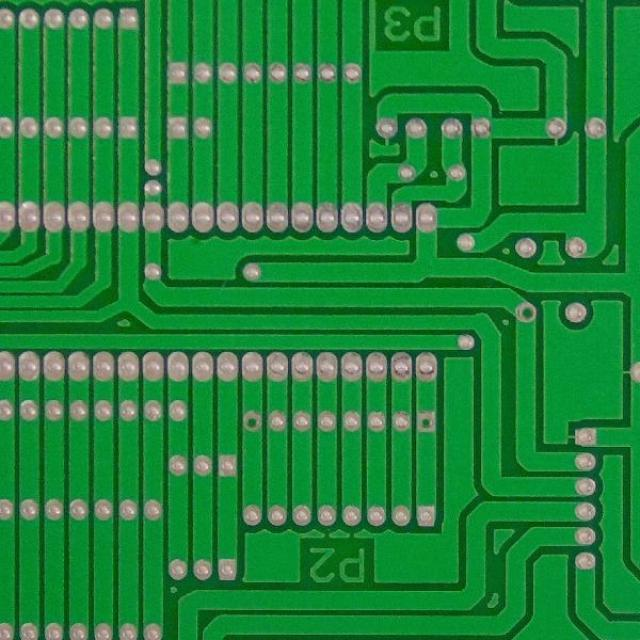missing_hole: (511, 298, 544, 328), (414, 406, 439, 436), (241, 406, 265, 436)
